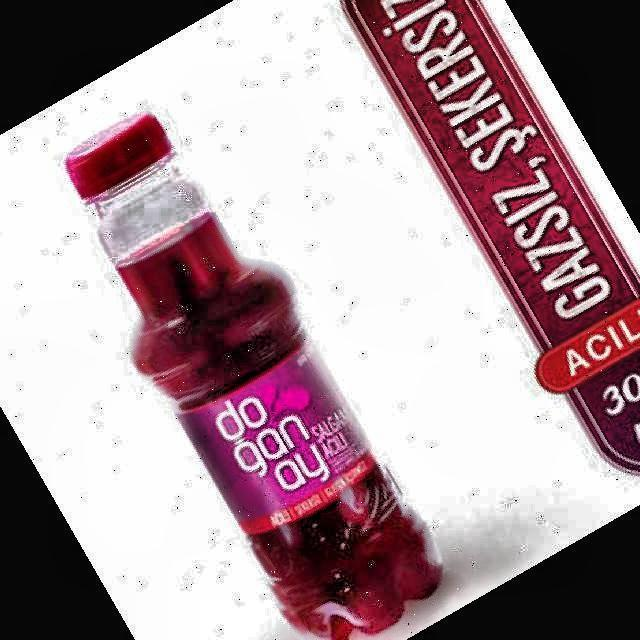plastic: (66, 118, 441, 640)
